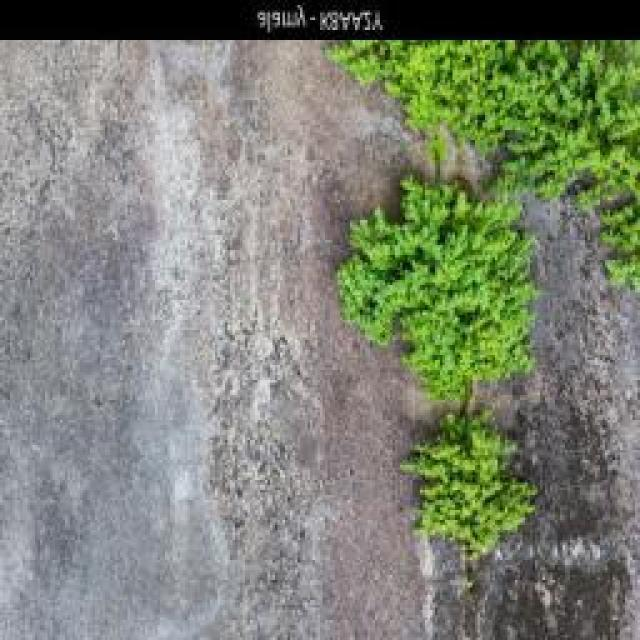Crack: (412, 166, 638, 638)
